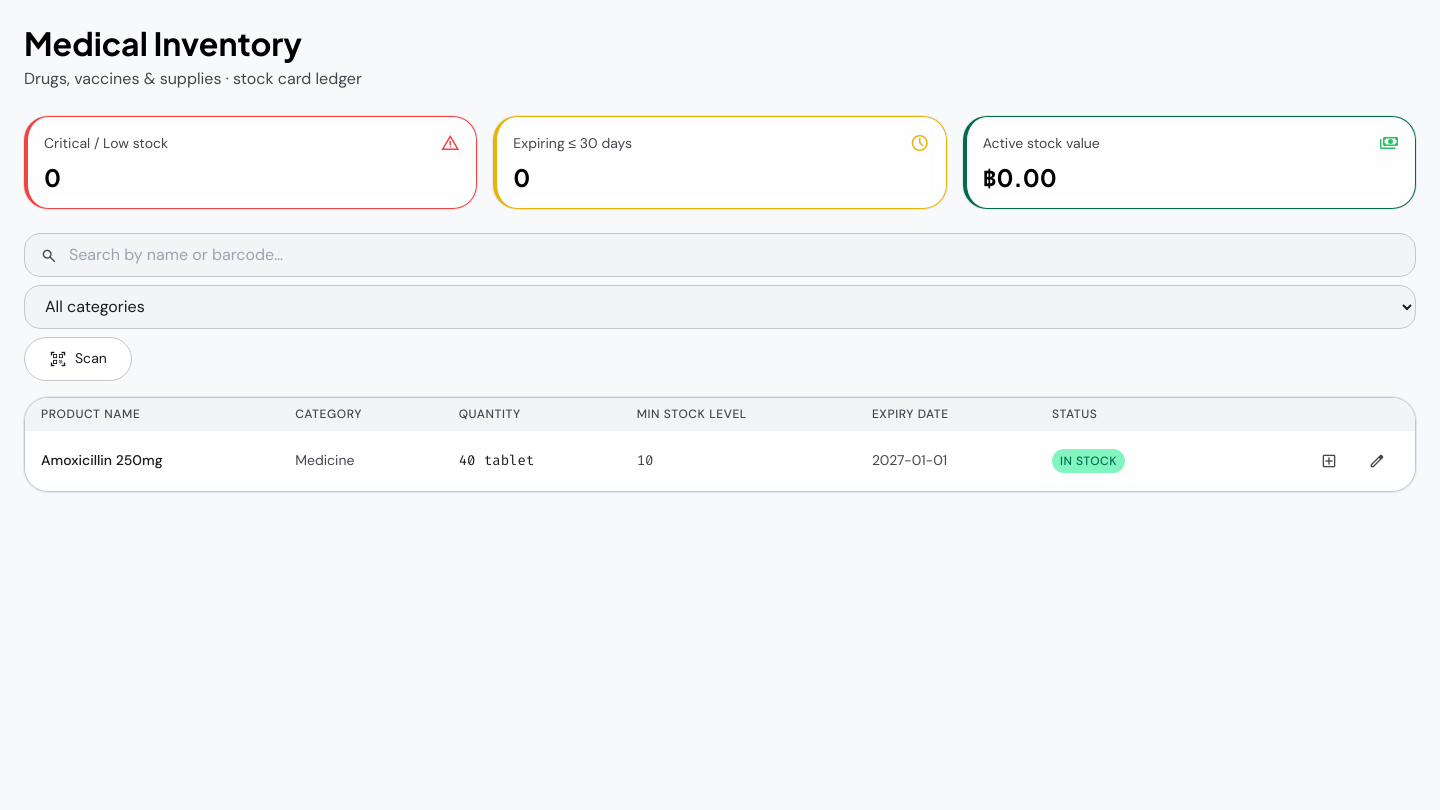
Test: ClinicInventory — doctor (inventory.view only, read-only) › Escape still closes the read-only Edit dialog
Click the button titled "Edit" at (1377, 461), box [1355,439,1399,483]
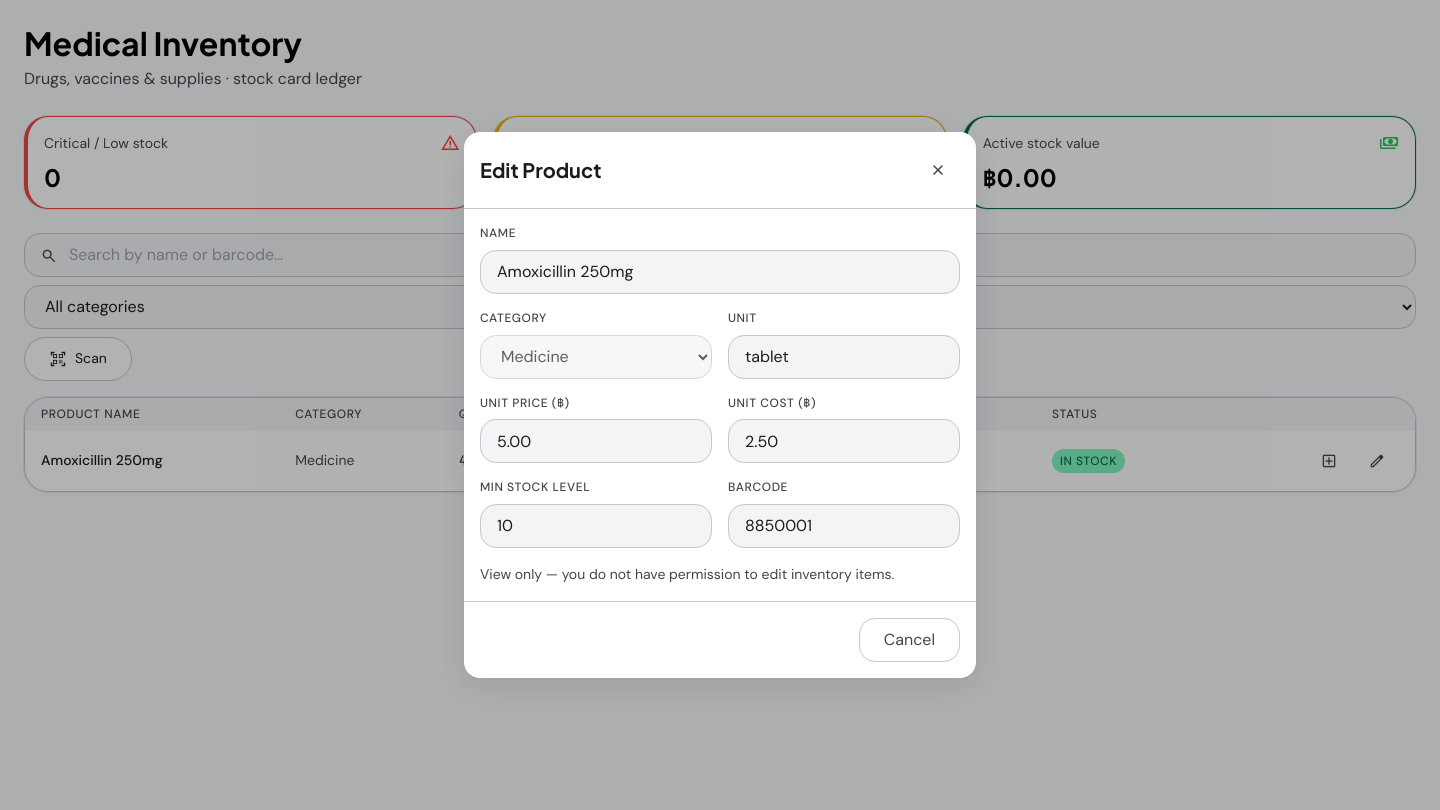
Now the dialog is shown, box [464,132,976,678]
Press Escape
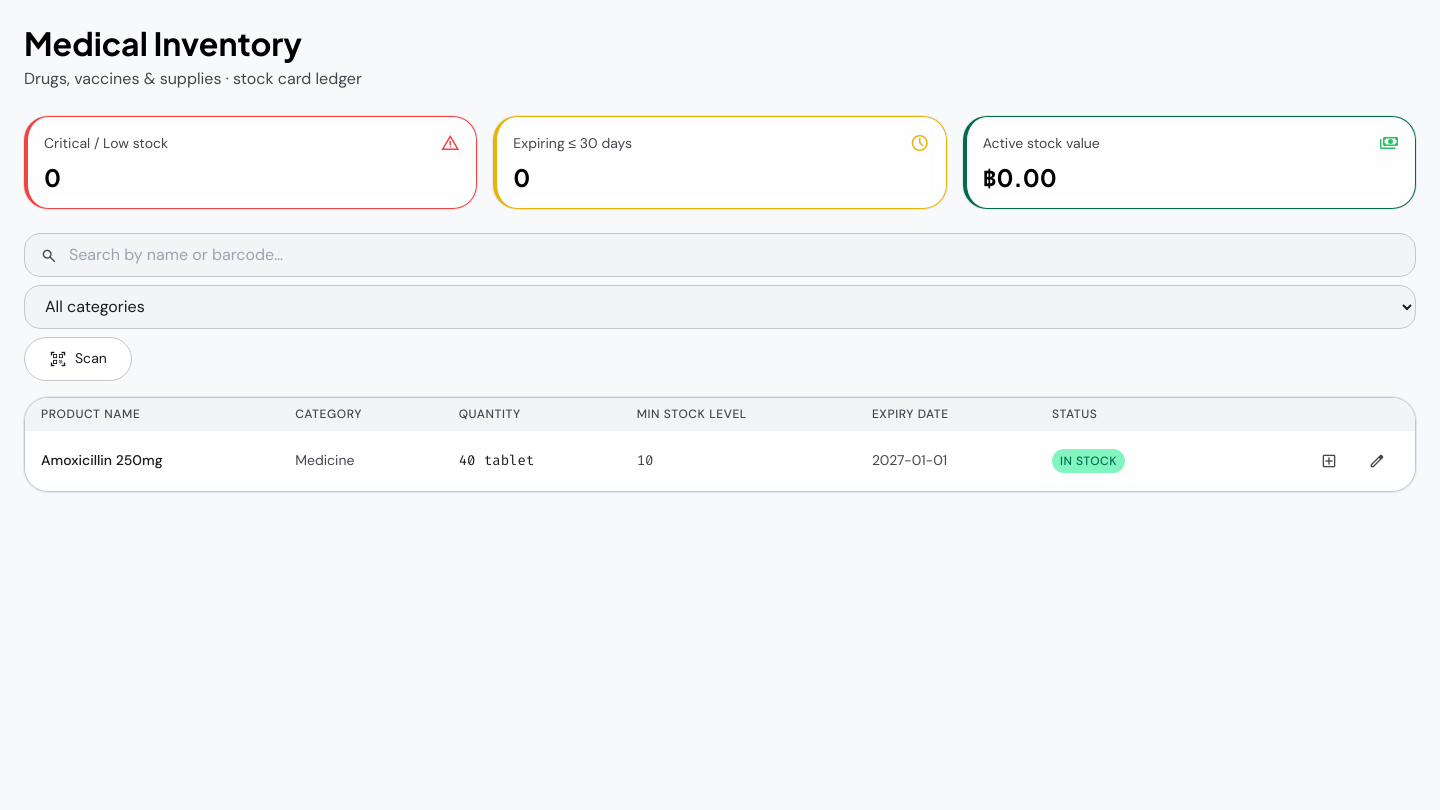
Now the dialog is gone
